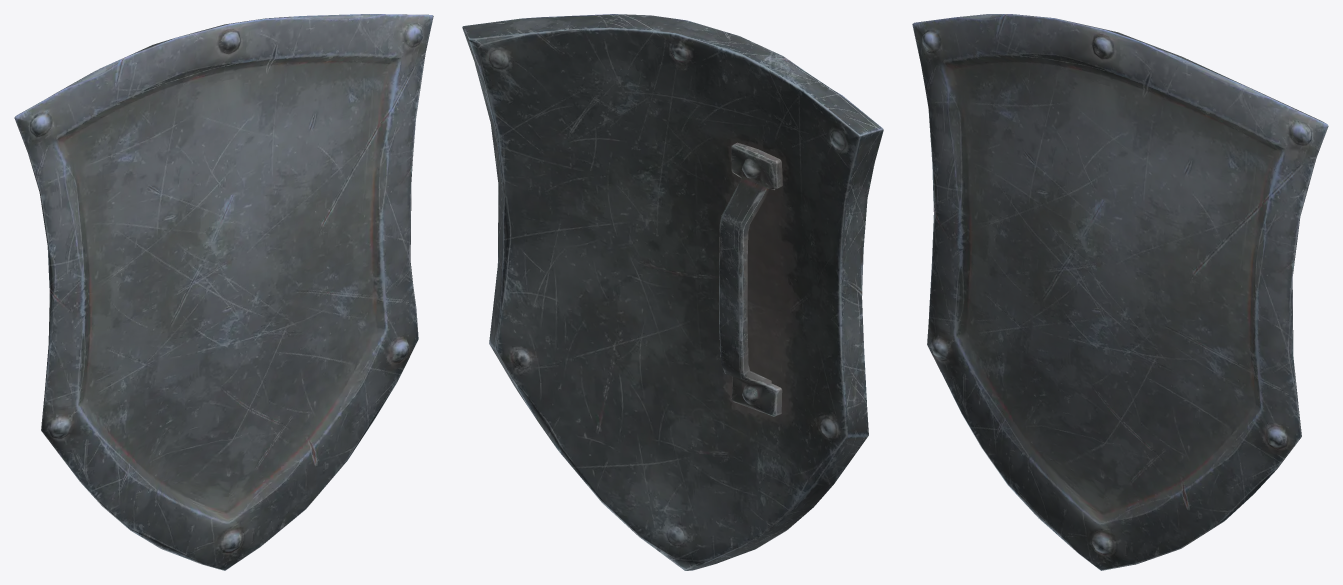
3 views of the same model, side by side, from view 1: azimuth 30°, elevation 25°; view 2: azimuth 150°, elevation 25°; view 3: azimuth 330°, elevation 25° (orthographic).
Visible parts, largest first — view 1: SM_Kite_Iron_1H_01_LOD0; view 2: SM_Kite_Iron_1H_01_LOD0; view 3: SM_Kite_Iron_1H_01_LOD0.
Part boxes in pixels (bbox=[...]): SM_Kite_Iron_1H_01_LOD0: bbox=[14, 14, 433, 570]; SM_Kite_Iron_1H_01_LOD0: bbox=[462, 14, 883, 570]; SM_Kite_Iron_1H_01_LOD0: bbox=[912, 14, 1328, 570].
Size of the model in its own units: 0.8244 by 1.03 by 0.1231.
Materials: 1 (1 with a texture image).
